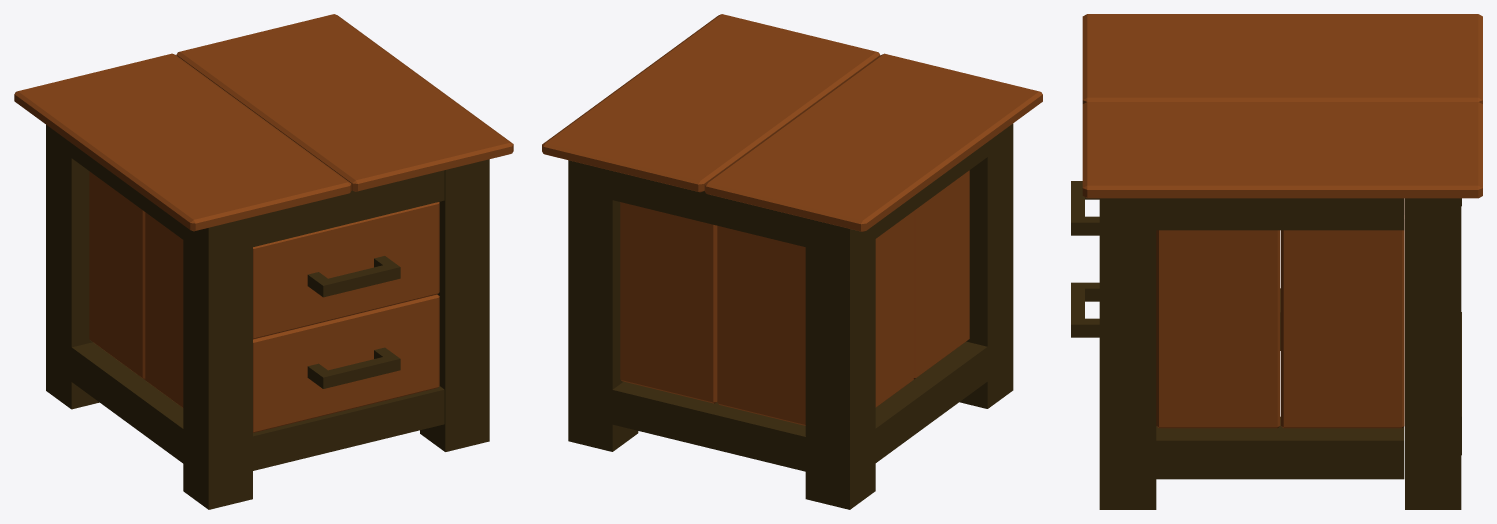
The model's file is vitrinica.FBX.
3 renders of one model, left to right at view 1: azimuth 30°, elevation 25°; view 2: azimuth 150°, elevation 25°; view 3: azimuth 270°, elevation 25°, orthographic. The views are drawn at different scales.
Visible parts, largest first — view 1: Box1681, Box1673; view 2: Box1681, Box1673; view 3: Box1681, Box1673.
Part boxes in pixels (box(x1,y1,x2,y2)): Box1681: box(14, 14, 513, 432); Box1673: box(46, 125, 489, 509); Box1681: box(542, 14, 1042, 425); Box1673: box(568, 123, 1013, 509); Box1681: box(1082, 14, 1482, 428); Box1673: box(1071, 181, 1461, 509).
Bounding box in the file's own units: 58.6 × 51.81 × 58.15.
